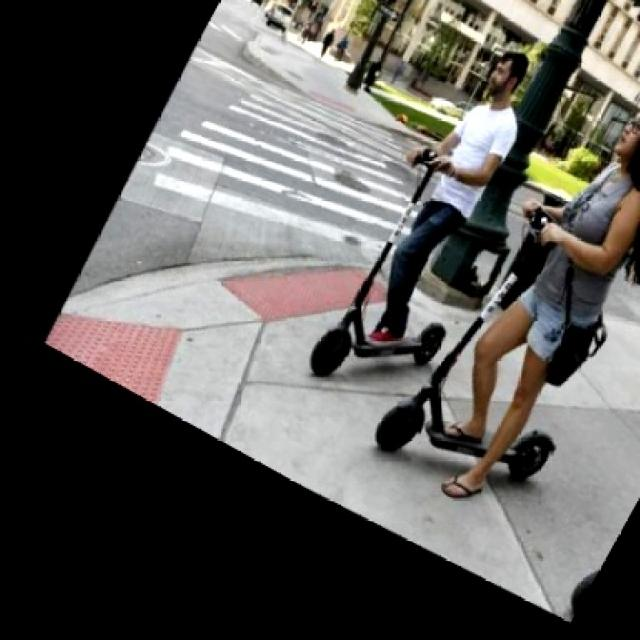bare_head: (479, 44, 544, 100)
human: (403, 28, 527, 348)
kickboard: (308, 319, 447, 378)
